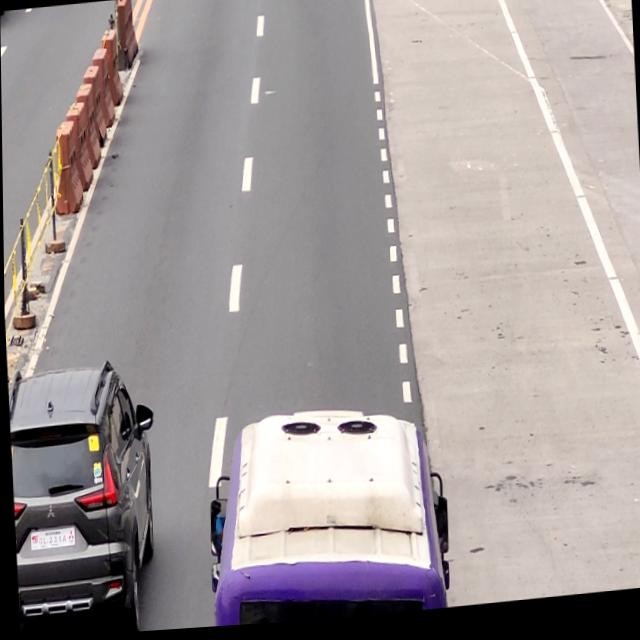Bus: (194, 391, 455, 630)
Car: (6, 352, 158, 640)
License-Plate: (25, 525, 74, 553)
